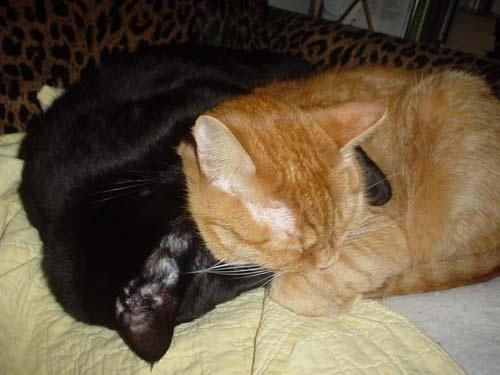cat: (18, 43, 393, 361), (179, 56, 500, 314)
